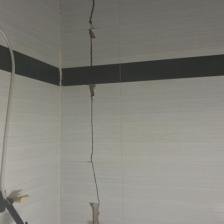Medium: (64, 5, 123, 221)
